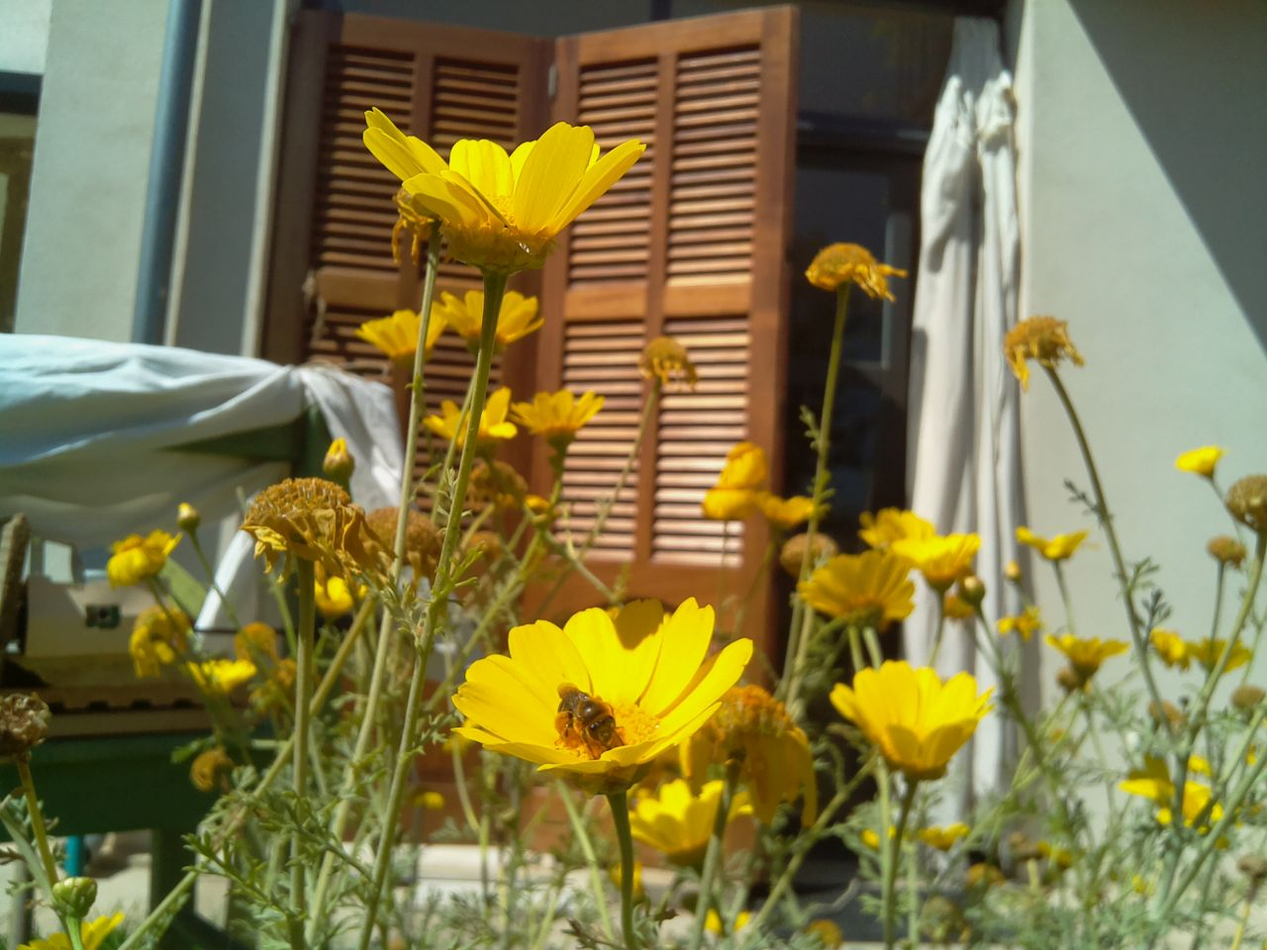bee: (536, 670, 625, 752)
